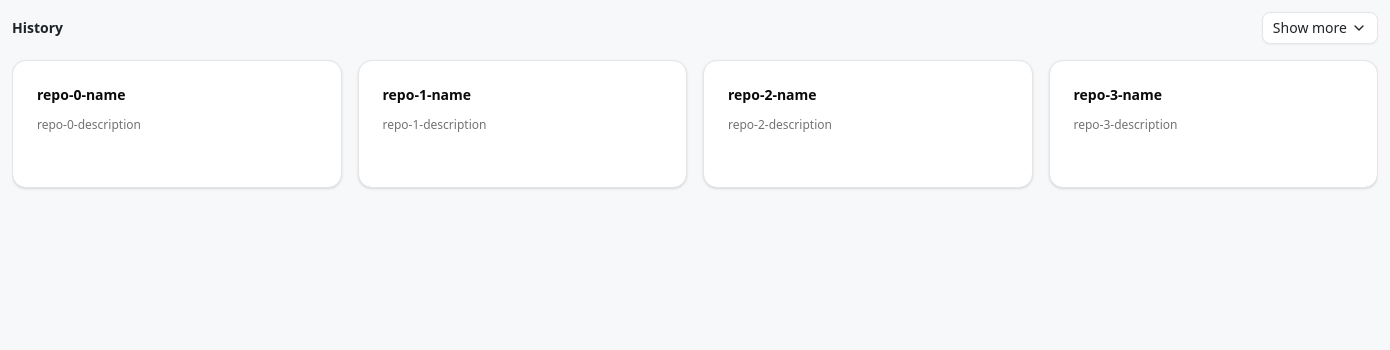
Test: HistorySection › renders show more button and extra cards when expanded
Click the button "Show more".
click(1320, 28)  # box [1262,12,1378,44]
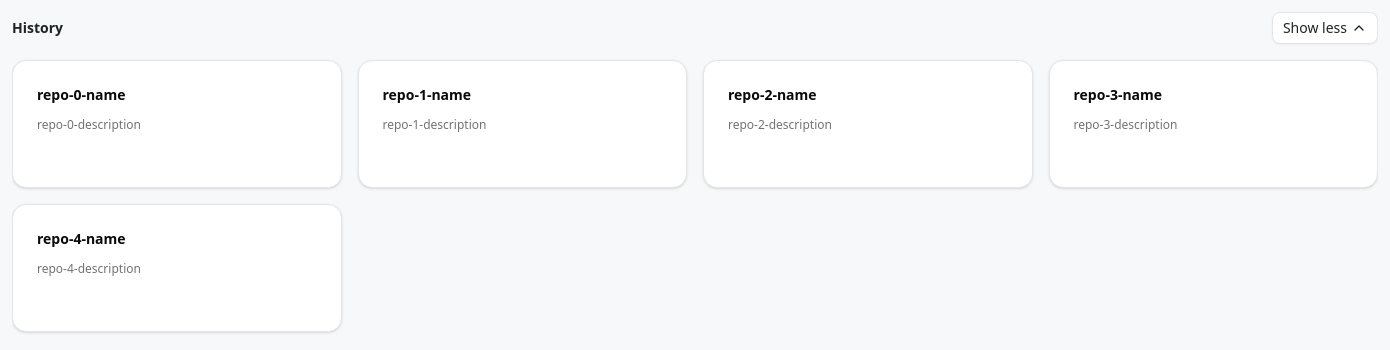
Result: the text "Show less" is shown at [1283,18,1347,38]
